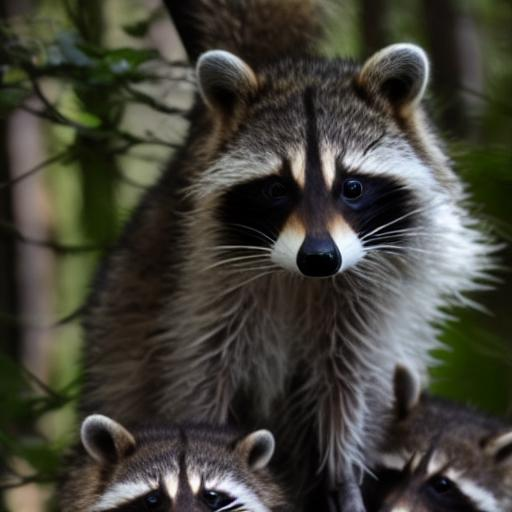raccoon: (72, 34, 482, 443), (41, 412, 291, 512), (365, 362, 512, 512)
